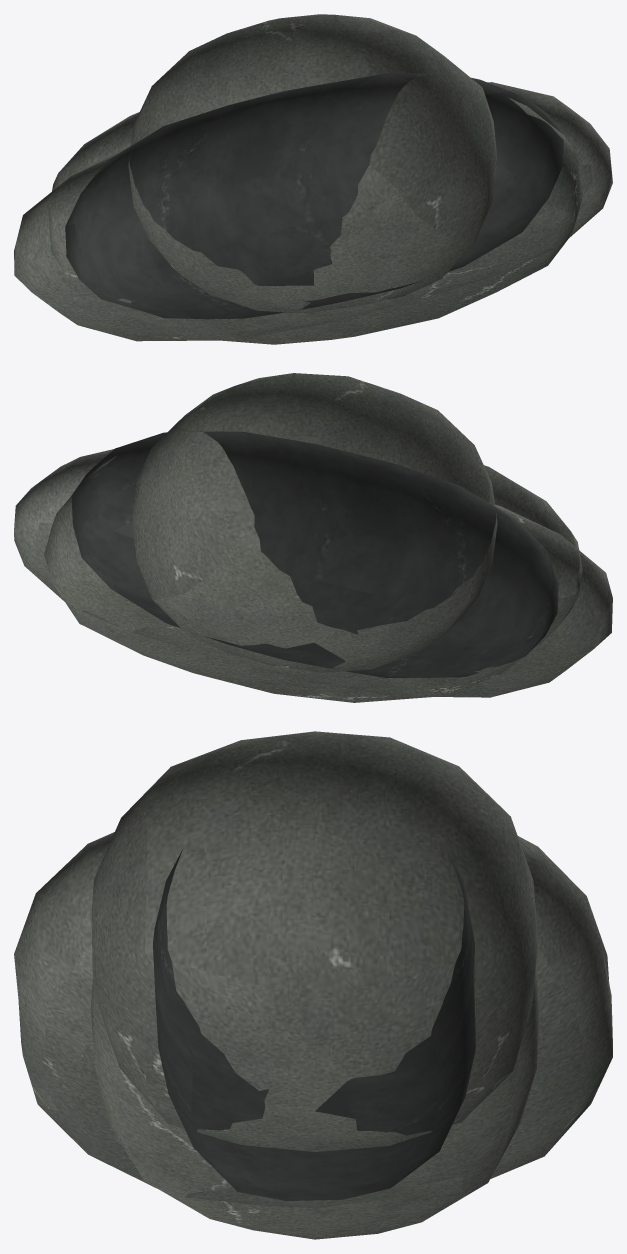
File: hoh_river_cobbles.glb
3 renders of one model, top to bottom at view 1: azimuth 30°, elevation 25°; view 2: azimuth 150°, elevation 25°; view 3: azimuth 270°, elevation 25°, orthographic. The views are drawn at different scales.
Visible parts, largest first — view 1: hoh_river_cobbles; view 2: hoh_river_cobbles; view 3: hoh_river_cobbles.
Part boxes in pixels (bbox=[...]): hoh_river_cobbles: bbox=[14, 14, 612, 344]; hoh_river_cobbles: bbox=[14, 373, 612, 702]; hoh_river_cobbles: bbox=[14, 731, 612, 1239].
Bounding box in the file's own units: 0.3604 × 0.1485 × 0.2406.
2 materials, 2 textured.
